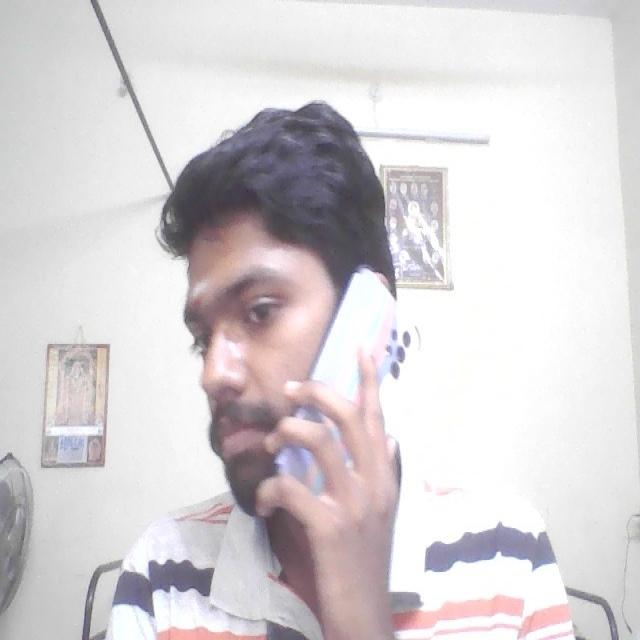Mobile: (312, 265, 426, 449)
